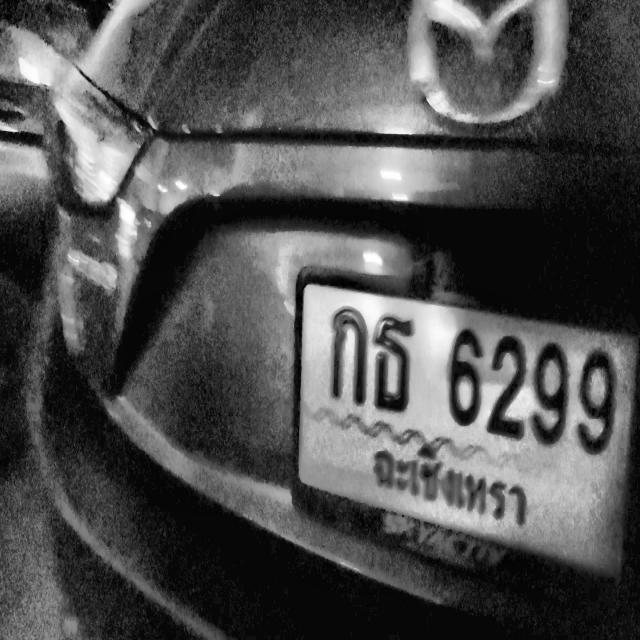license-plate: (296, 285, 637, 581)
